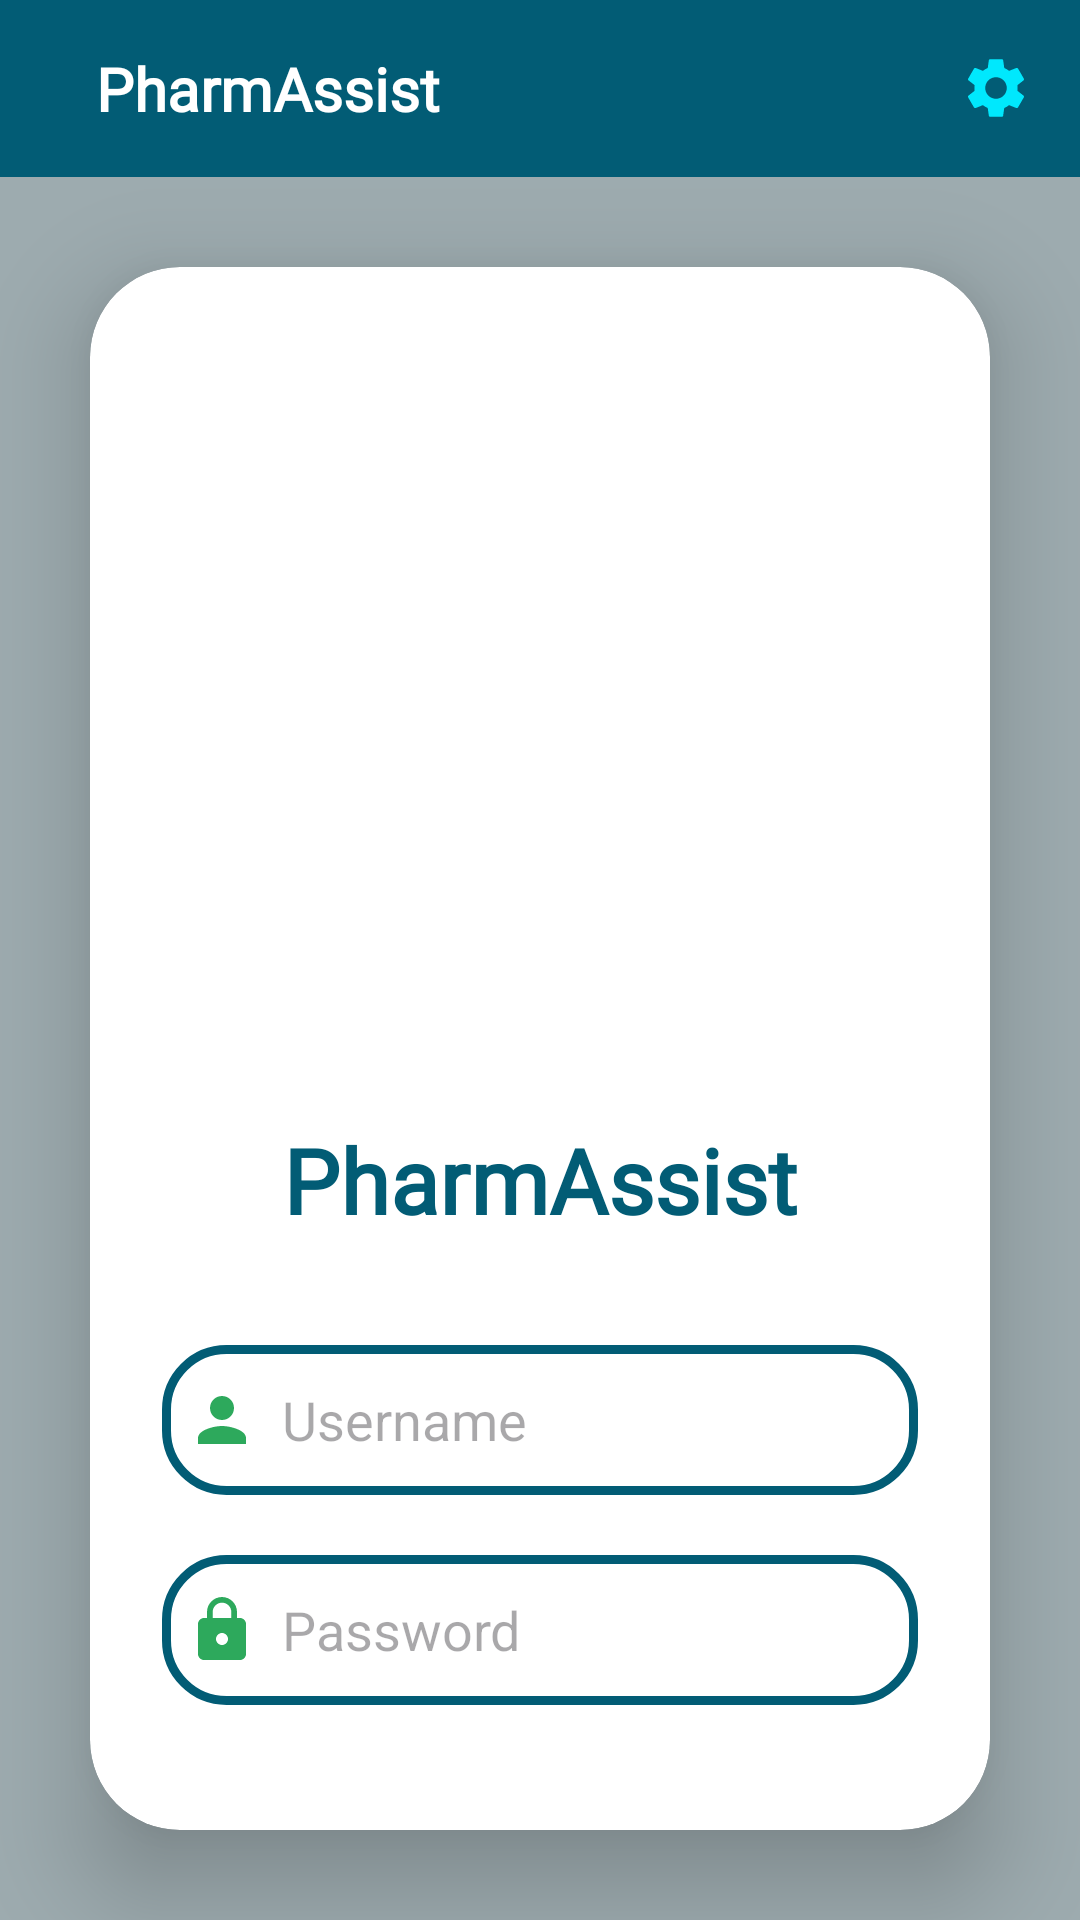

Where to tap for icons on this 1080px x 1920px app screen, as [x,y]:
settings: [996,88]
